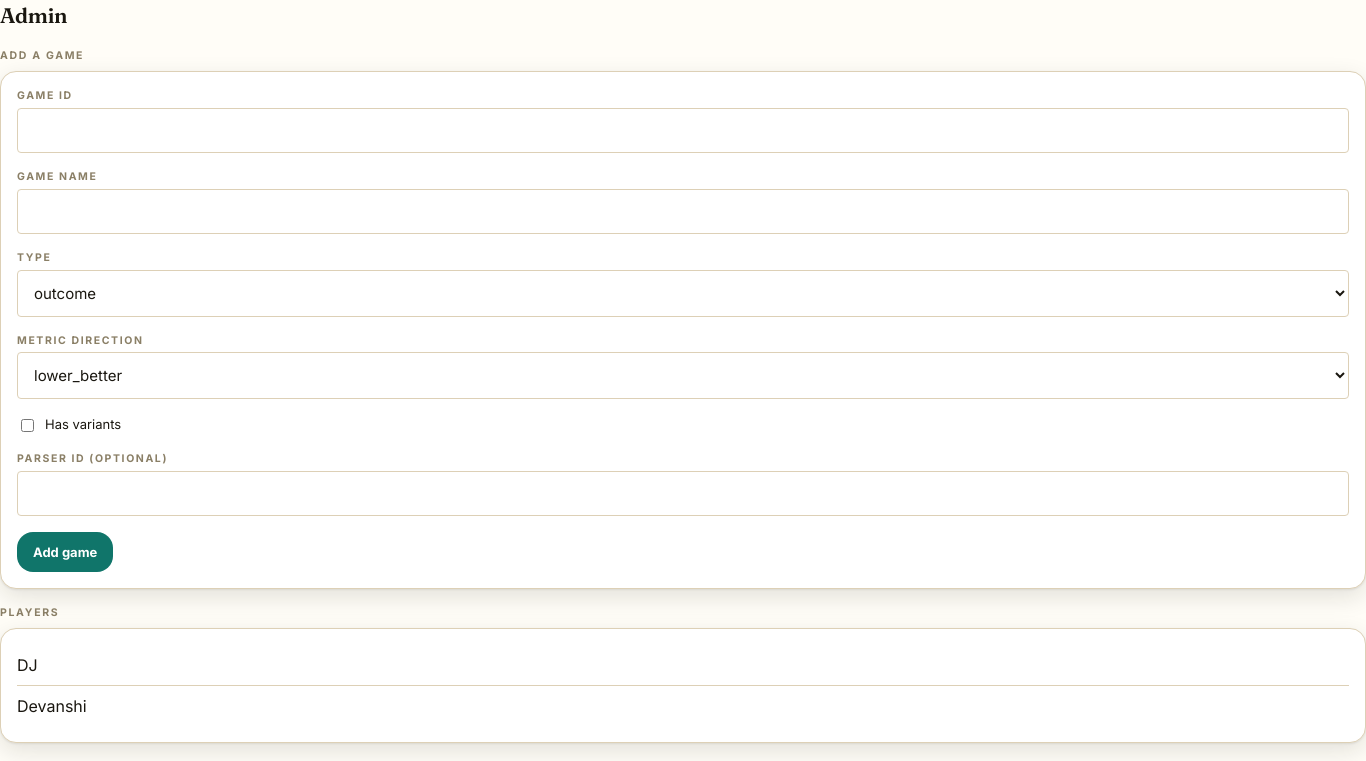
it: Admin › surfaces the error when postAdminGame fails
Expected: the text "DJ" is shown, [17,653,38,677]
Type "pips" into the field labelled "Game id". click: (683, 130)
box: [17,108,1349,153]
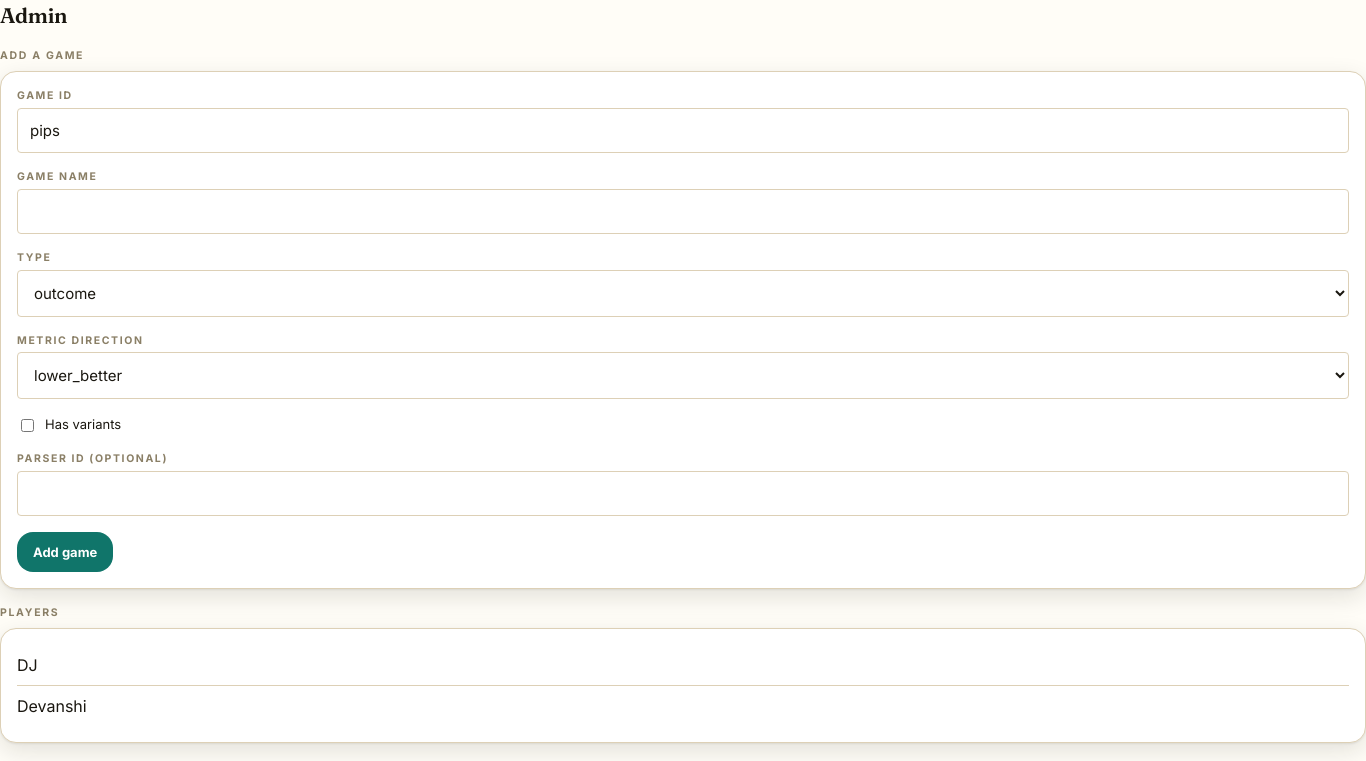
Type "Pips" into the field labelled "Game name". click: (683, 211)
box: [17,189,1349,234]
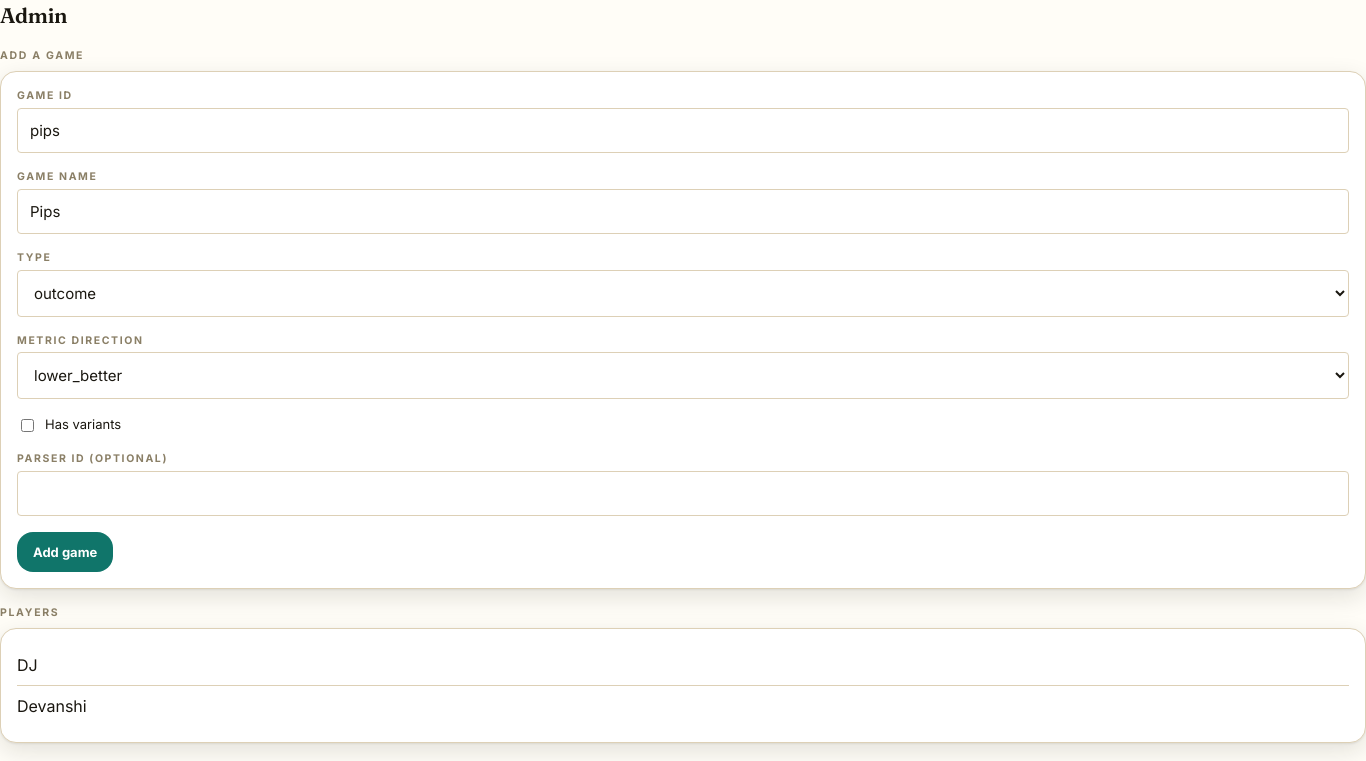
Click the button "Add game". click: (65, 552)
box: [17,532,113,572]
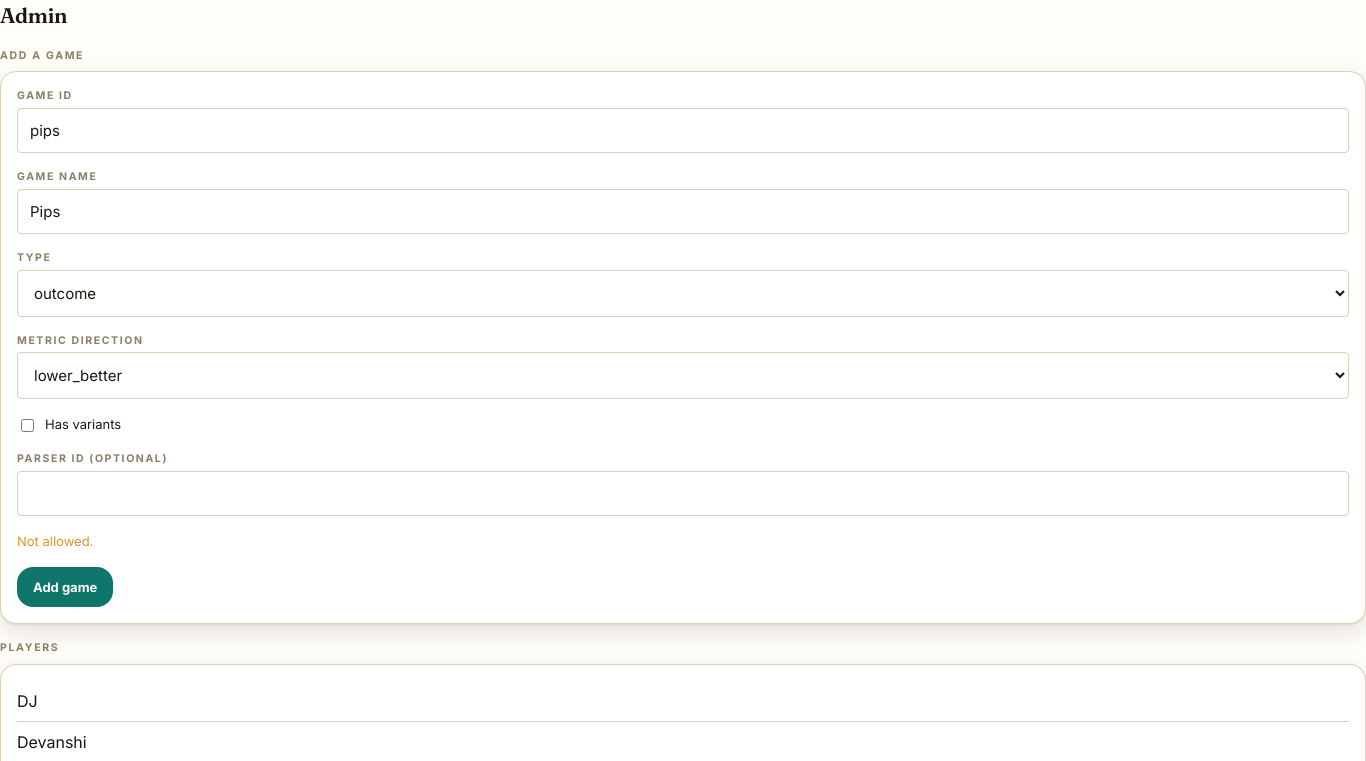
Now the text "Not allowed." is shown, box [17,532,93,548]
